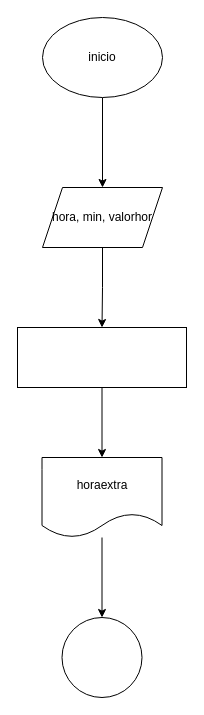
Image size: 204x715. Some labels were removed from this diagram. Here are the shapes that lost their labels. From the top down, the centre of each, then its label:
At point (101, 357): "convertido = hora (min/60) horaextra= (convertido*70/100) + valorhor".
At point (101, 657): "fim".
